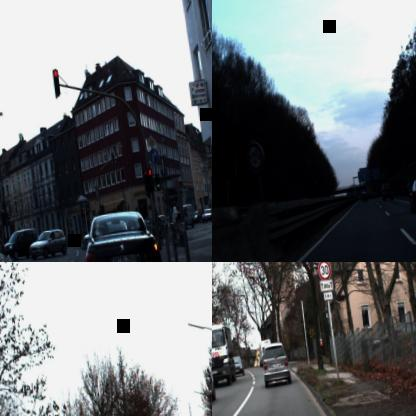go right or straight: (148, 146, 160, 164)
priority road: (146, 133, 156, 149)
speed limit 120: (244, 139, 266, 173)
speed limit 30: (316, 262, 332, 280)
